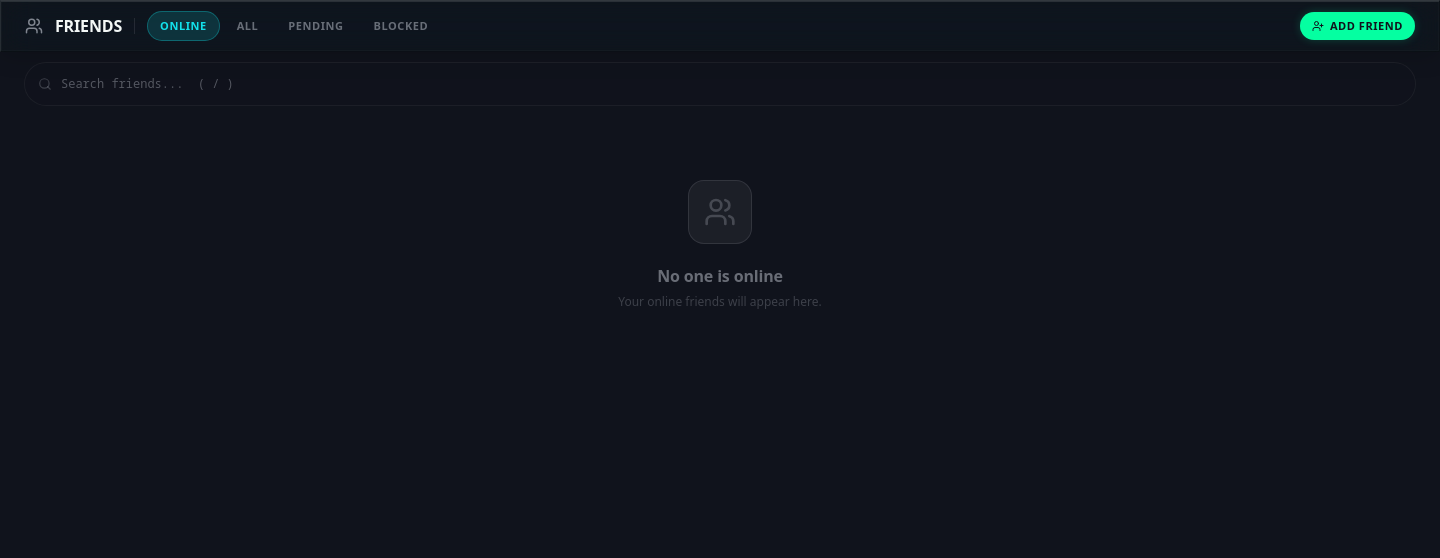
it: FriendsPanel › sends friend requests through the xorein control API
Click the button "ADD FRIEND" at (1357, 26), box [1300,12,1415,40]
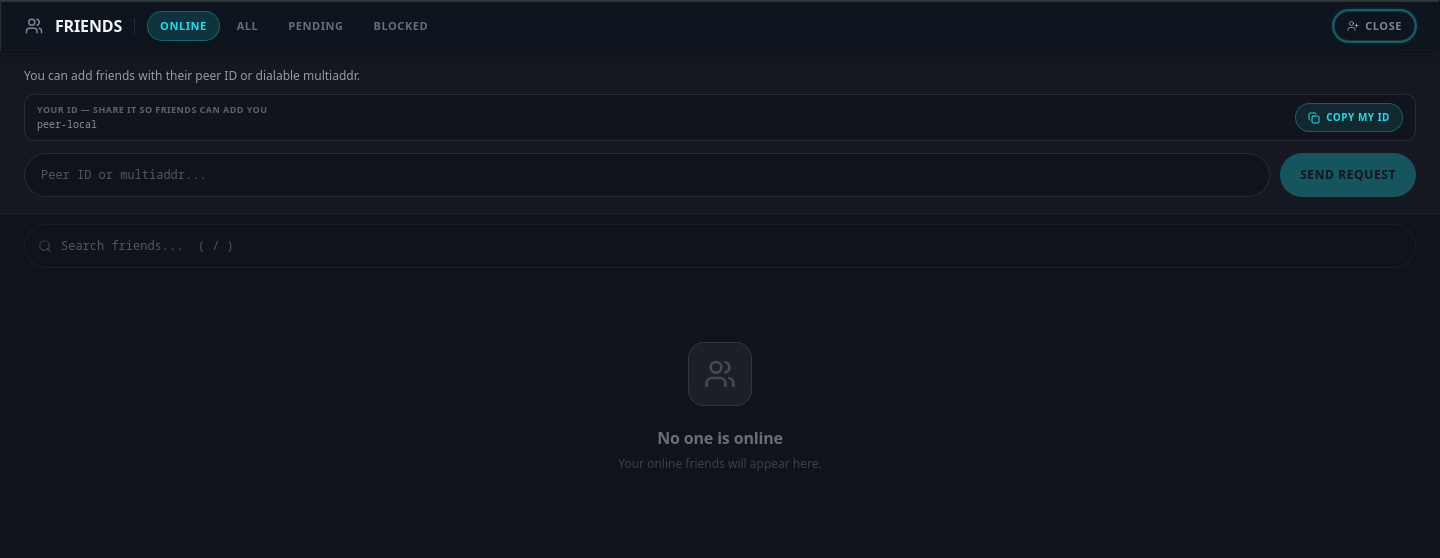
Type "/ip4/127.0.0.1/tcp/4101/p2p/peer-remote" into the field with placeholder "Peer ID or multiaddr..." at (647, 175), box [24,153,1270,197]
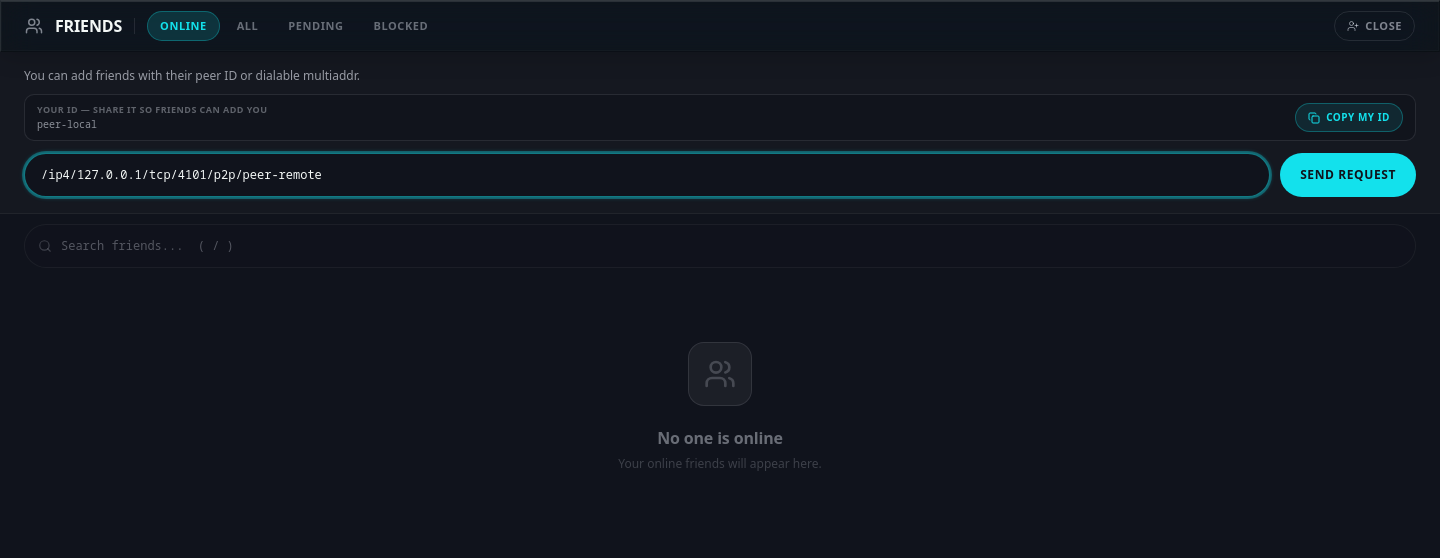
Click the button "SEND REQUEST" at (1348, 175), box [1280,153,1416,197]
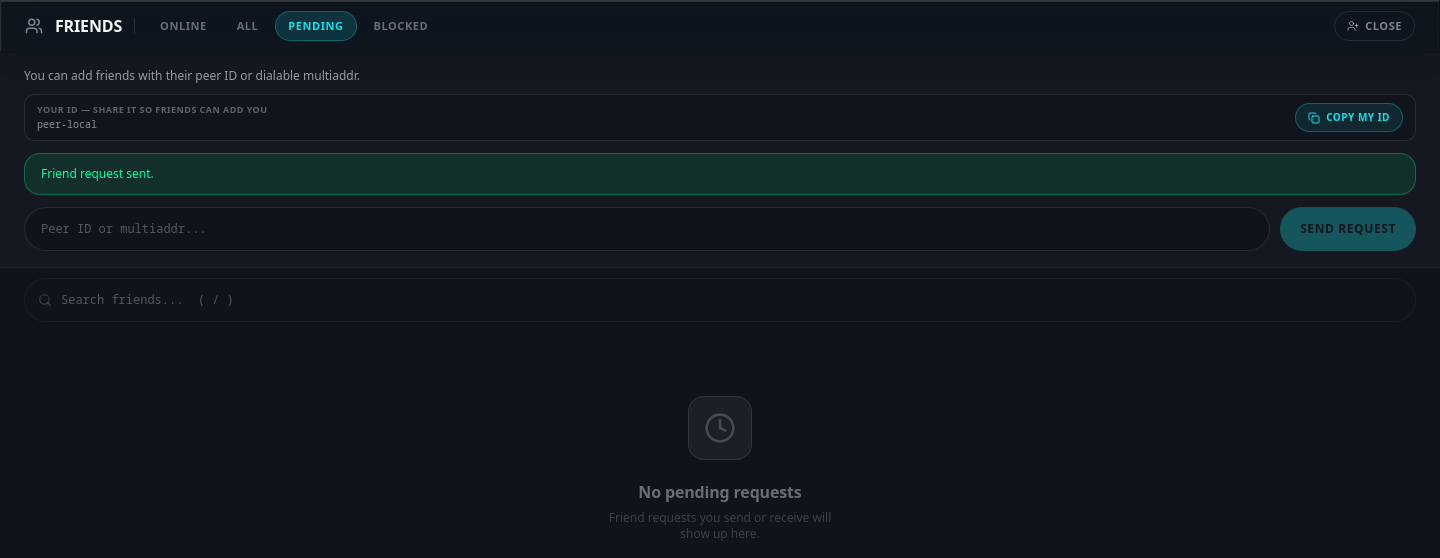
Result: the text "Friend request sent." is shown at [24,153,1416,195]
